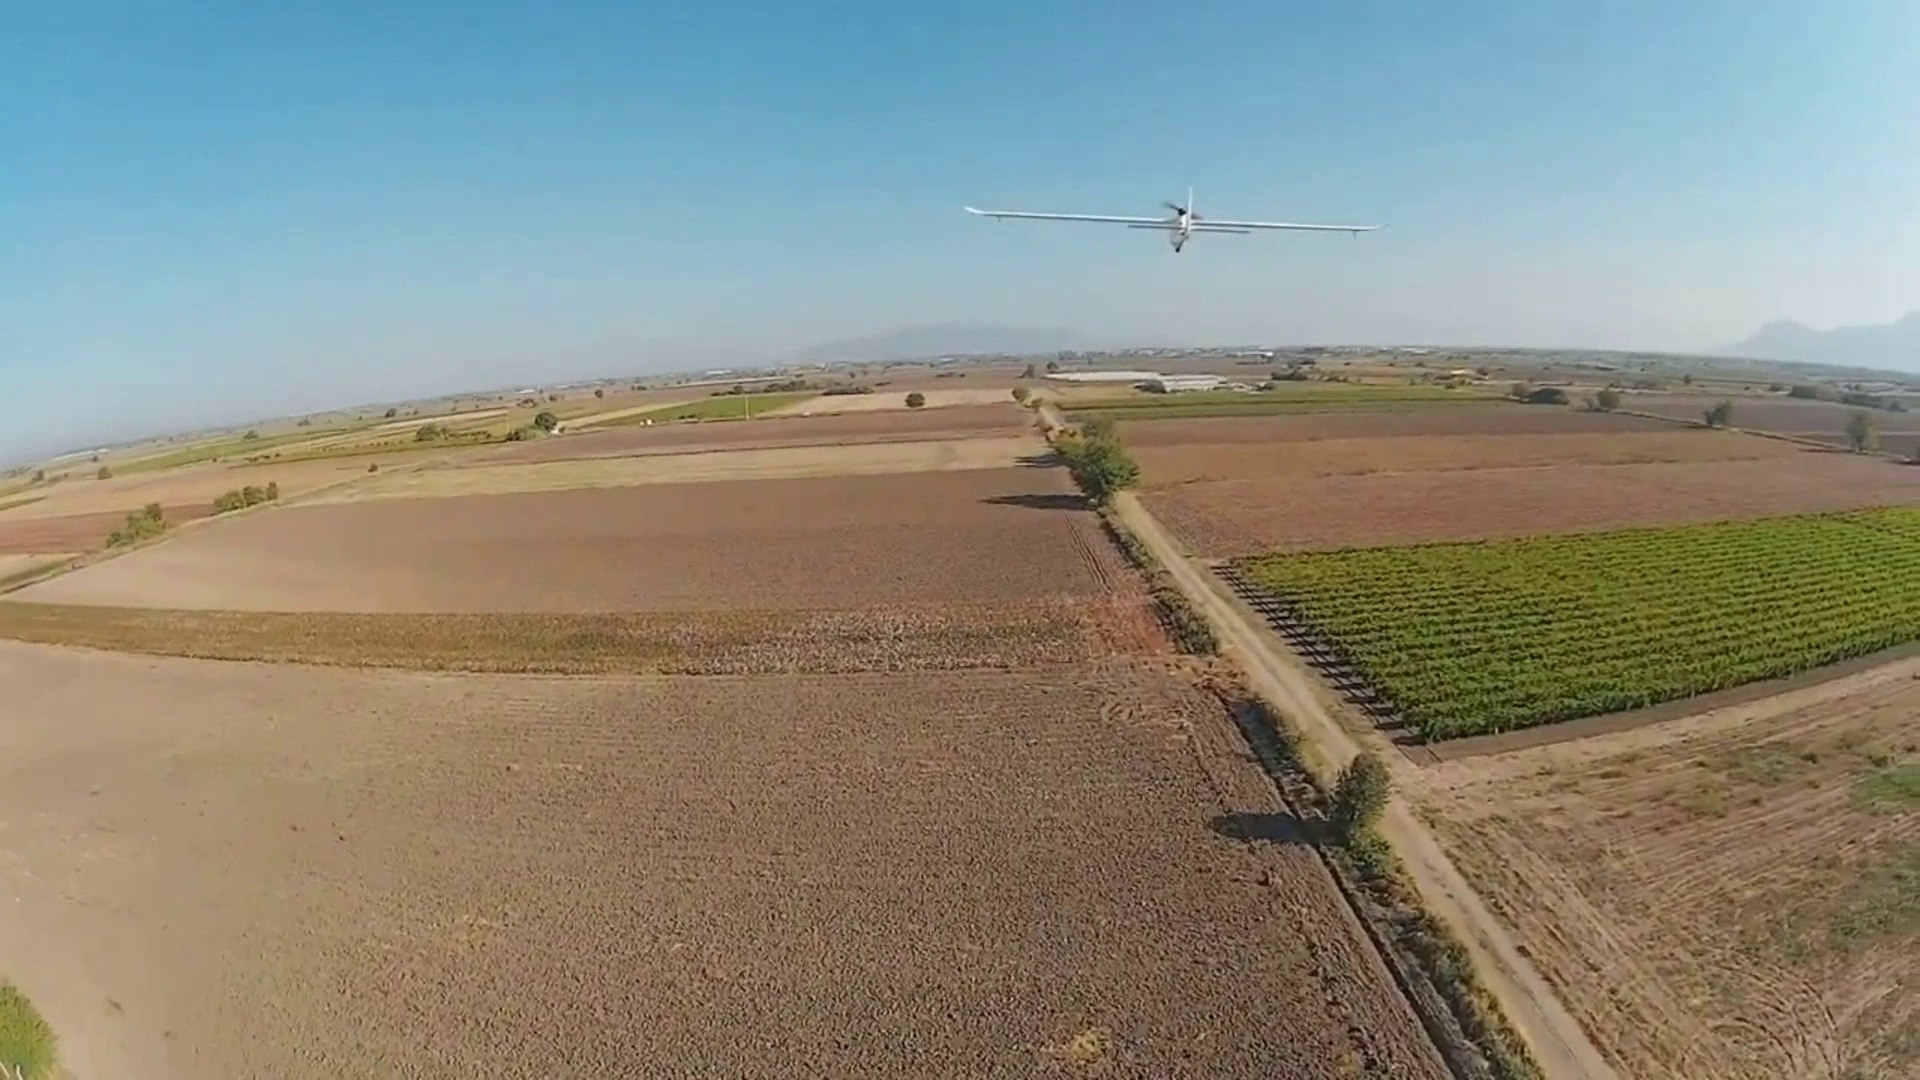airplane: (963, 191, 1381, 251)
